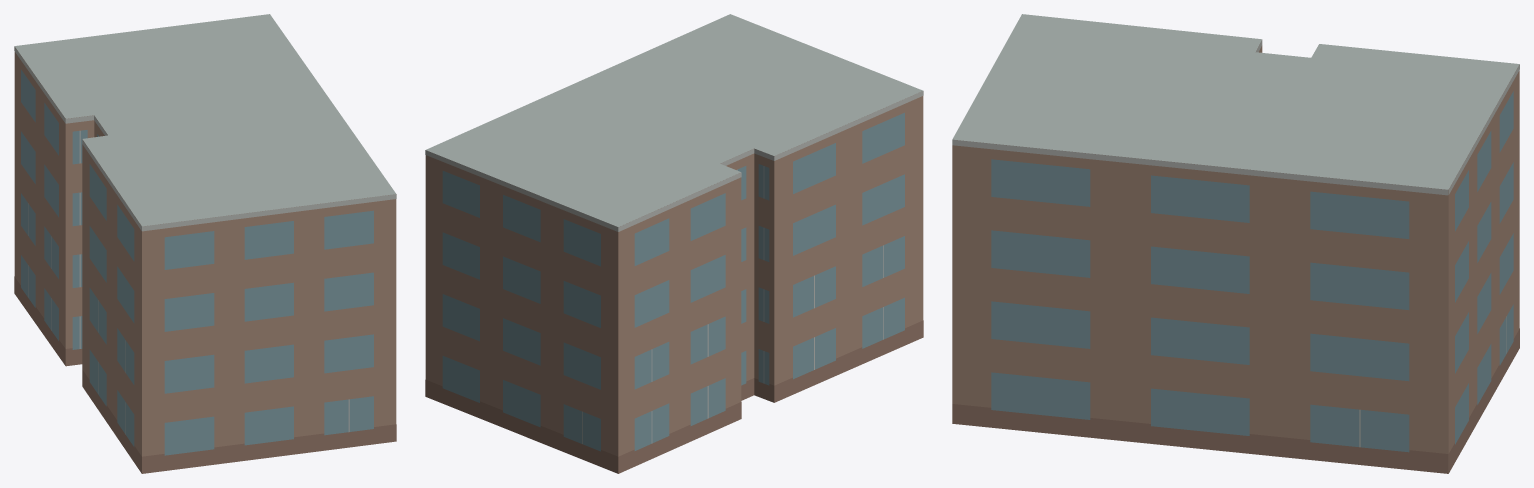
File: residential-c4794bb2-90f9-4c71-94d8-869c0aacfd56.glb
3 renders of one model, left to right at view 1: azimuth 30°, elevation 25°; view 2: azimuth 150°, elevation 25°; view 3: azimuth 270°, elevation 25°, orthographic. The views are drawn at different scales.
Visible parts, largest first — view 1: residential-c4794bb2-90f9-4c71-94d8-869c0aacfd56.tmp; view 2: residential-c4794bb2-90f9-4c71-94d8-869c0aacfd56.tmp; view 3: residential-c4794bb2-90f9-4c71-94d8-869c0aacfd56.tmp.
Part boxes in pixels (x1=…): residential-c4794bb2-90f9-4c71-94d8-869c0aacfd56.tmp: x1=14, y1=14, x2=396, y2=473; residential-c4794bb2-90f9-4c71-94d8-869c0aacfd56.tmp: x1=425, y1=14, x2=923, y2=473; residential-c4794bb2-90f9-4c71-94d8-869c0aacfd56.tmp: x1=952, y1=14, x2=1519, y2=473.
Size of the model in its own units: 16.2 by 12.2 by 22.1.
